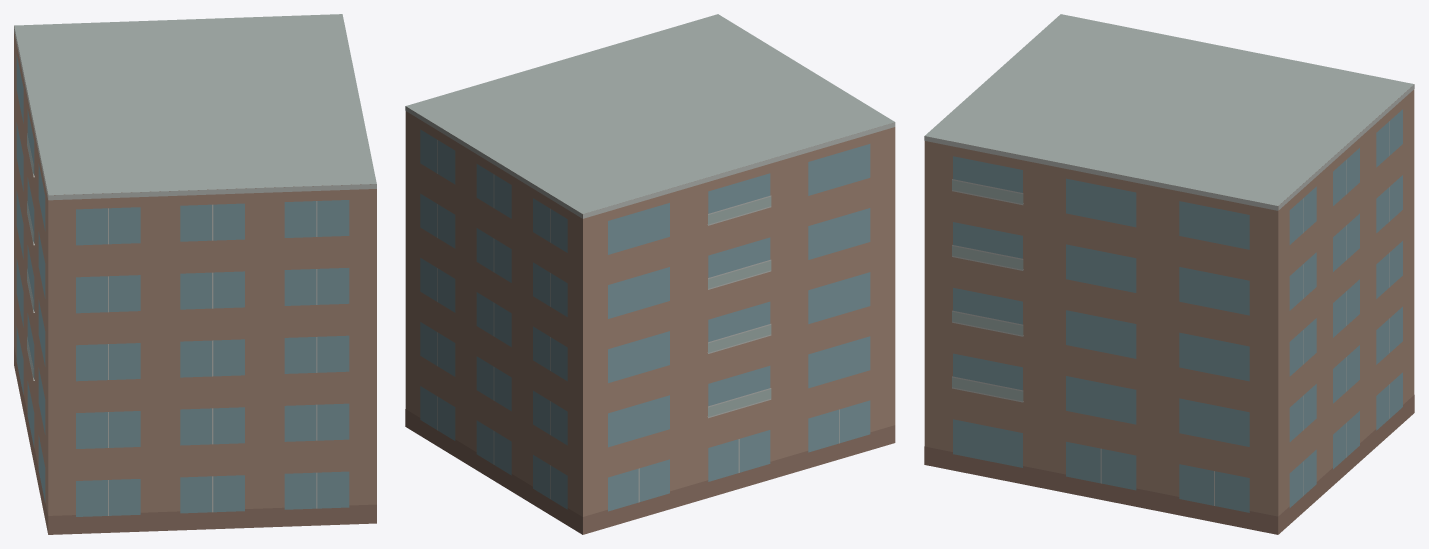
The model's file is survey-upis-32708794.glb.
3 renders of one model, left to right at view 1: azimuth 30°, elevation 25°; view 2: azimuth 150°, elevation 25°; view 3: azimuth 270°, elevation 25°, orthographic. The views are drawn at different scales.
Visible parts, largest first — view 1: survey-upis-32708794.tmp; view 2: survey-upis-32708794.tmp; view 3: survey-upis-32708794.tmp.
Part boxes in pixels (box(x1,y1,x2,y2)): survey-upis-32708794.tmp: box(14, 14, 376, 534); survey-upis-32708794.tmp: box(405, 14, 895, 534); survey-upis-32708794.tmp: box(924, 14, 1414, 534).
Size of the model in its own units: 20.8 by 16.6 by 22.43.
